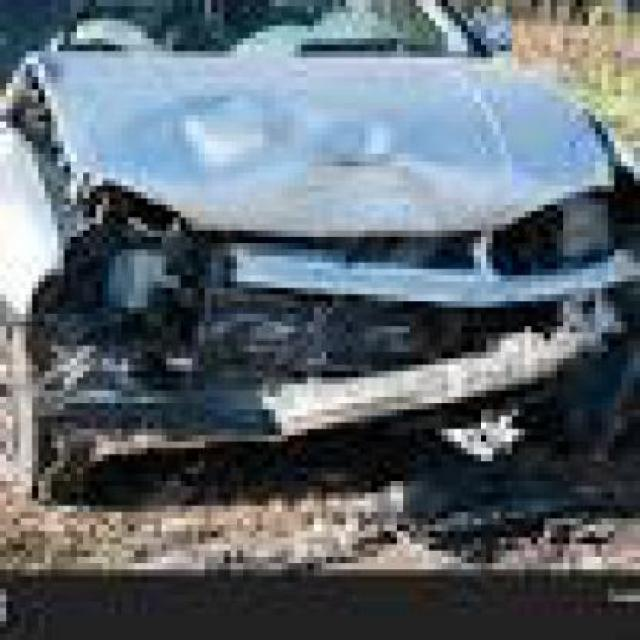damaged-front-bumper: (38, 223, 634, 454)
